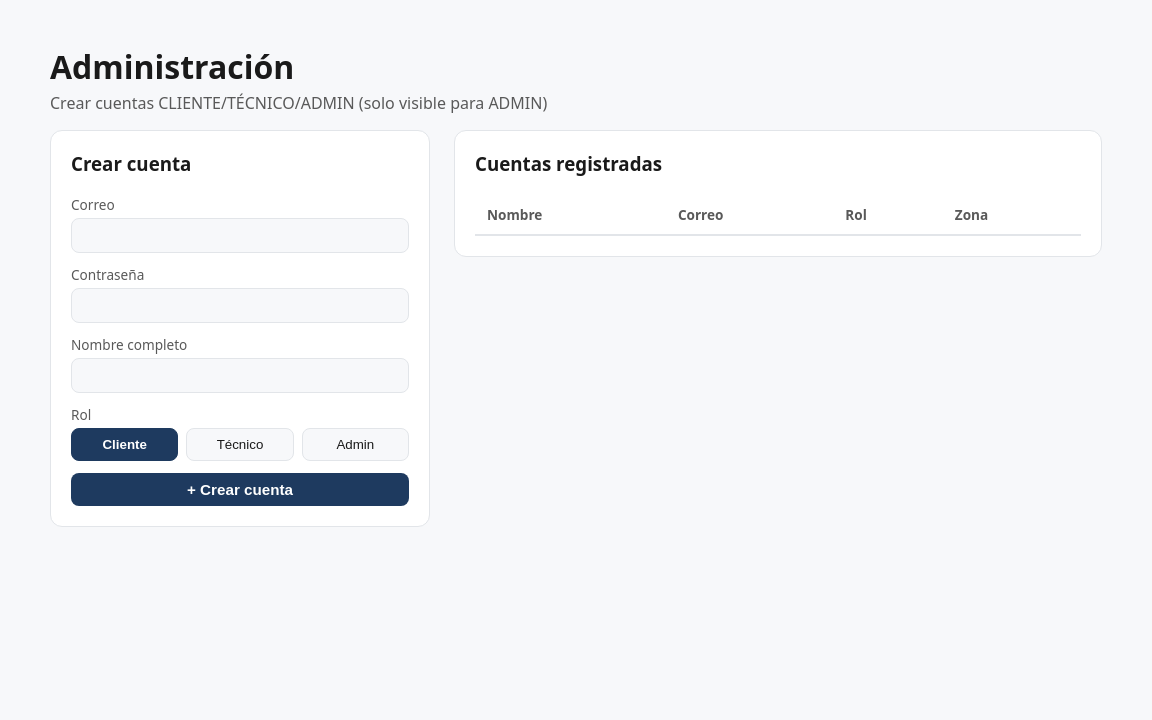
it: AdminPage › el campo de zona solo aparece cuando el rol elegido es TECNICO
Expected: the text "Zona (técnico)" is not shown
Step 1. Click the button "Técnico" → (240, 445), box 186,428 -> 294,461
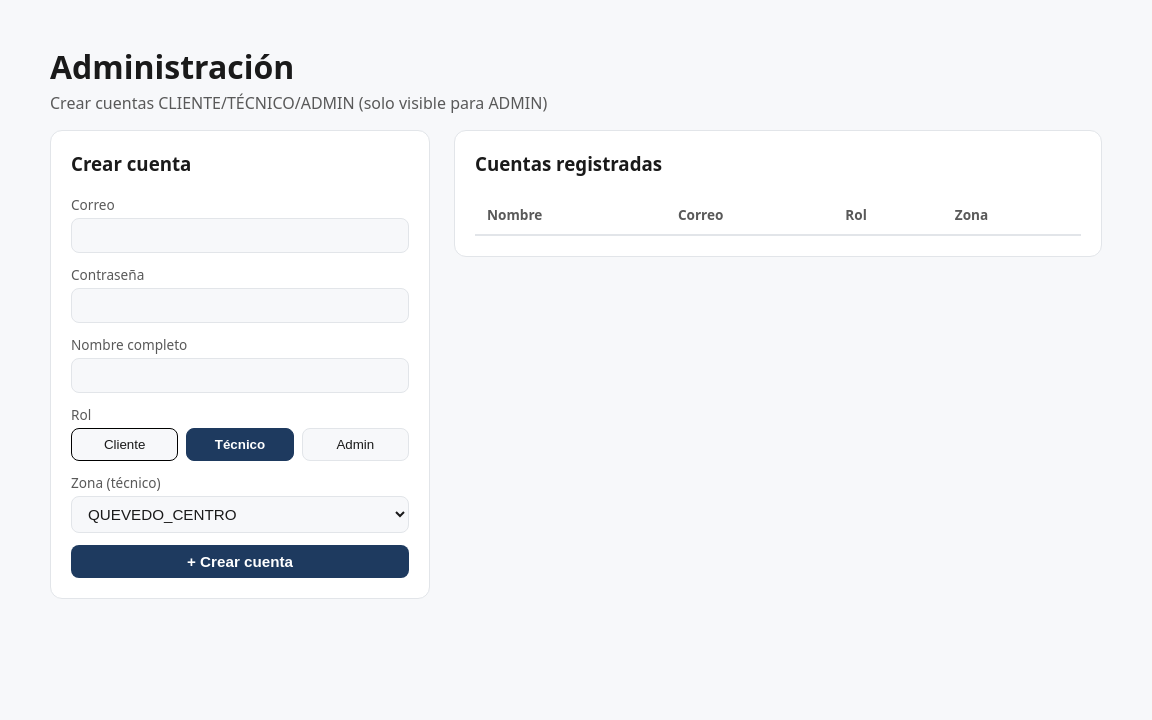
Result: the text "Zona (técnico)" is shown at 71,473 -> 409,533
